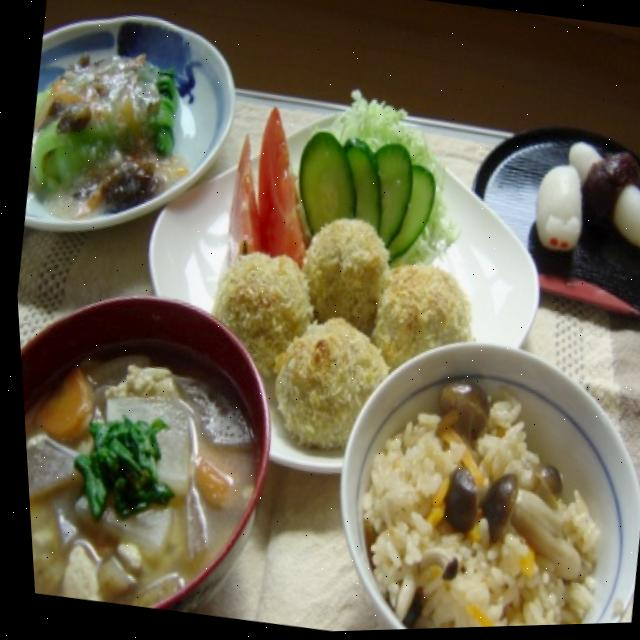米饭主食: (308, 323, 640, 633)
蔬菜料理: (11, 232, 315, 628)
